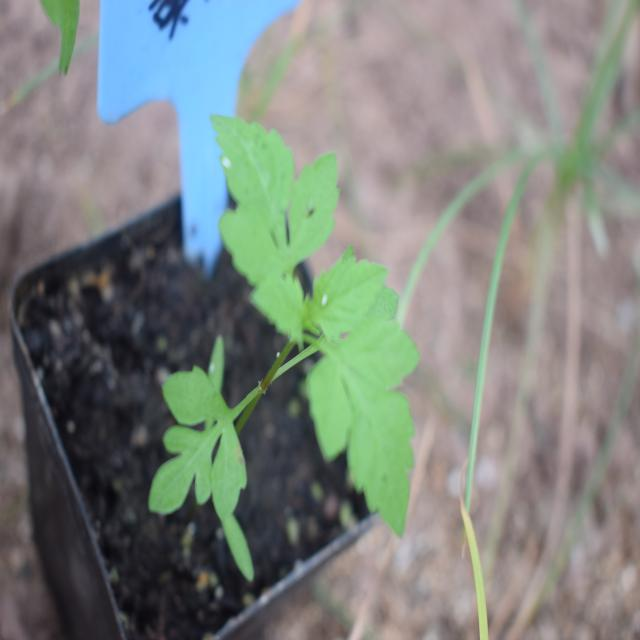Bidens pilosa: (146, 127, 416, 555)
